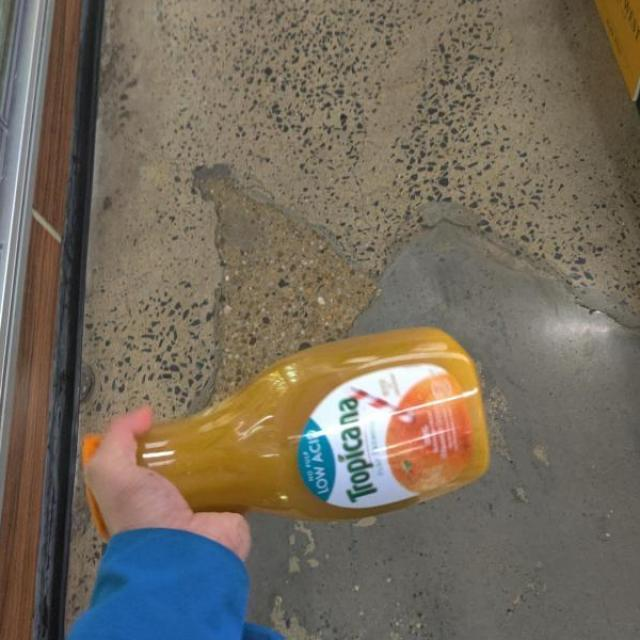Juice: (57, 335, 524, 521)
